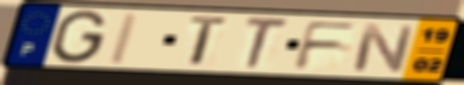F: (290, 20, 362, 71)
G: (48, 8, 111, 65)
I: (105, 11, 144, 66)
N: (350, 22, 417, 74)
T: (242, 15, 292, 71), (186, 14, 232, 69)
